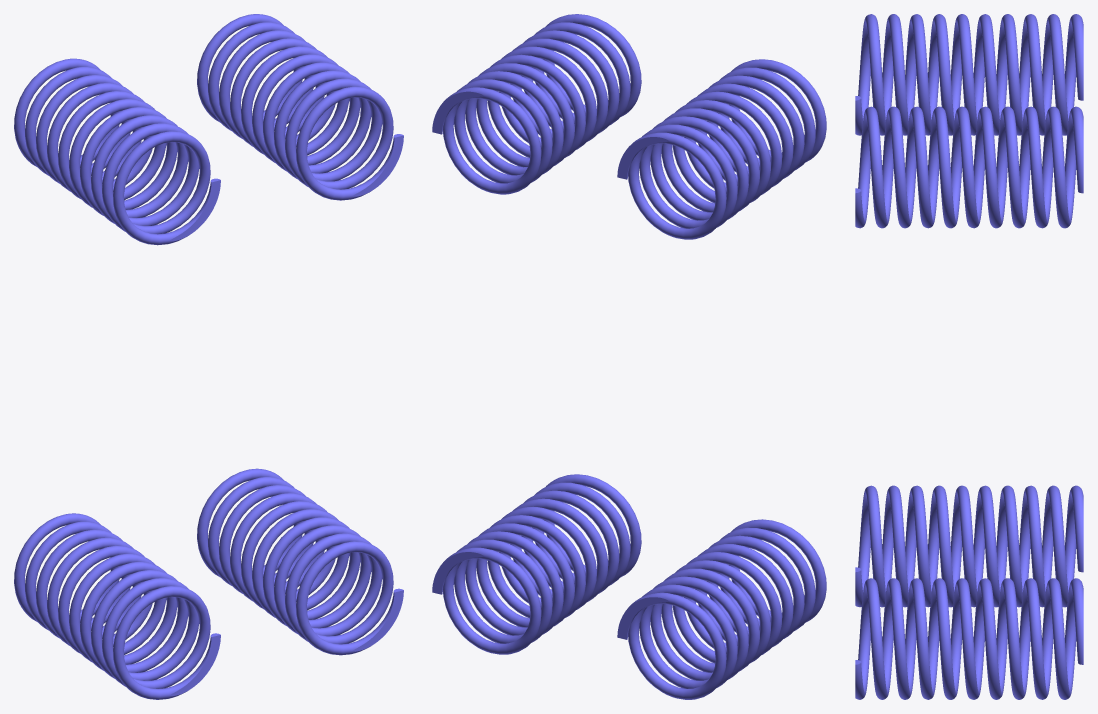
The model's file is spring.glb.
3 renders of one model, left to right at view 1: azimuth 30°, elevation 25°; view 2: azimuth 150°, elevation 25°; view 3: azimuth 270°, elevation 25°, orthographic. The views are drawn at different scales.
Visible parts, largest first — view 1: Button_spring_062 (×4); view 2: Button_spring_062 (×4); view 3: Button_spring_062 (×4).
Part boxes in pixels (x1,y1,x2,y2): Button_spring_062 (×4): (14, 14, 403, 699); Button_spring_062 (×4): (432, 14, 826, 699); Button_spring_062 (×4): (855, 14, 1083, 699).
Size of the model in its own units: 0.0747 by 0.1407 by 0.05.
